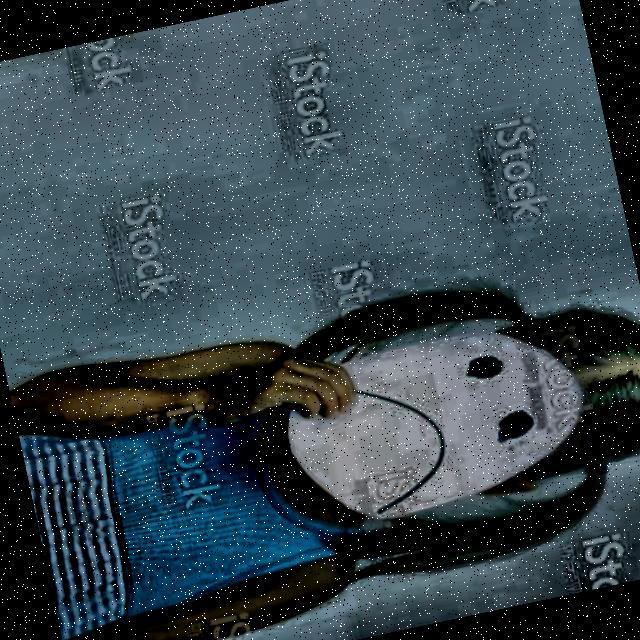sad: (261, 299, 629, 546)
